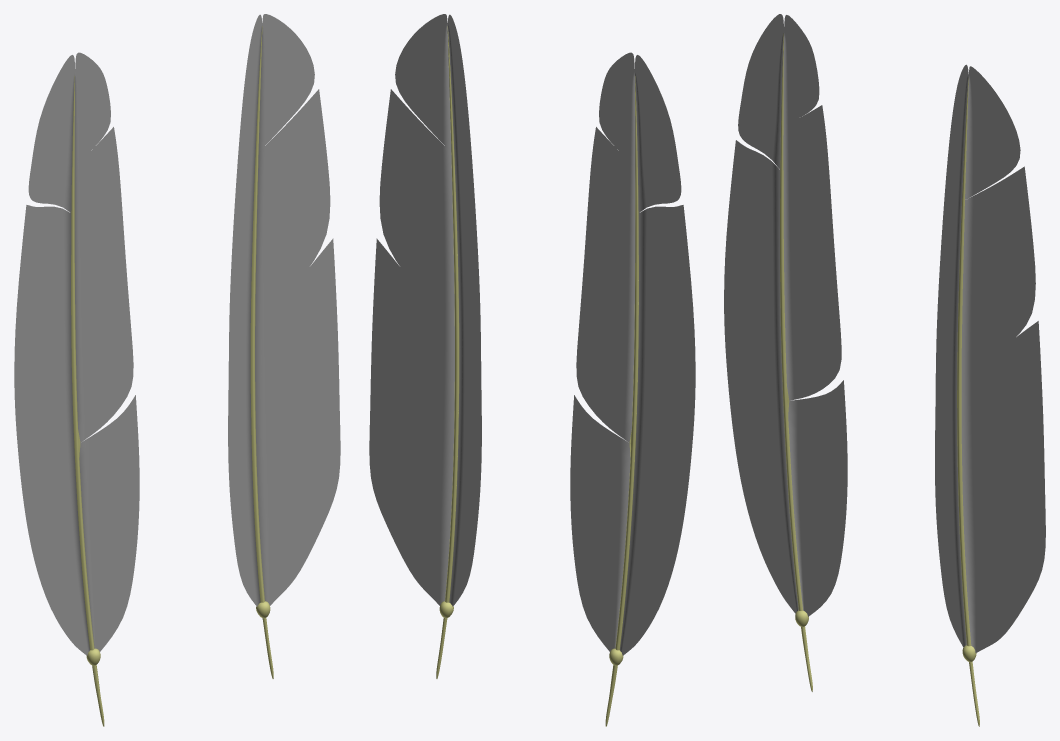
The model's file is Feathers.fbx.
3 views of the same model, side by side, from view 1: azimuth 30°, elevation 25°; view 2: azimuth 150°, elevation 25°; view 3: azimuth 330°, elevation 25° (orthographic).
Visible parts, largest first — view 1: feather_a_geather_a, feather_b; view 2: feather_a_geather_a, feather_b; view 3: feather_a_geather_a, feather_b.
Boxes of the visible parts, left/top/right/bottom form: feather_a_geather_a: left=14, top=52, right=139, bottom=726; feather_b: left=228, top=14, right=340, bottom=678; feather_a_geather_a: left=570, top=52, right=695, bottom=726; feather_b: left=369, top=14, right=481, bottom=678; feather_a_geather_a: left=724, top=14, right=847, bottom=691; feather_b: left=935, top=64, right=1045, bottom=726.
Bounding box in the file's own units: 61.55 × 2.31 × 123.
